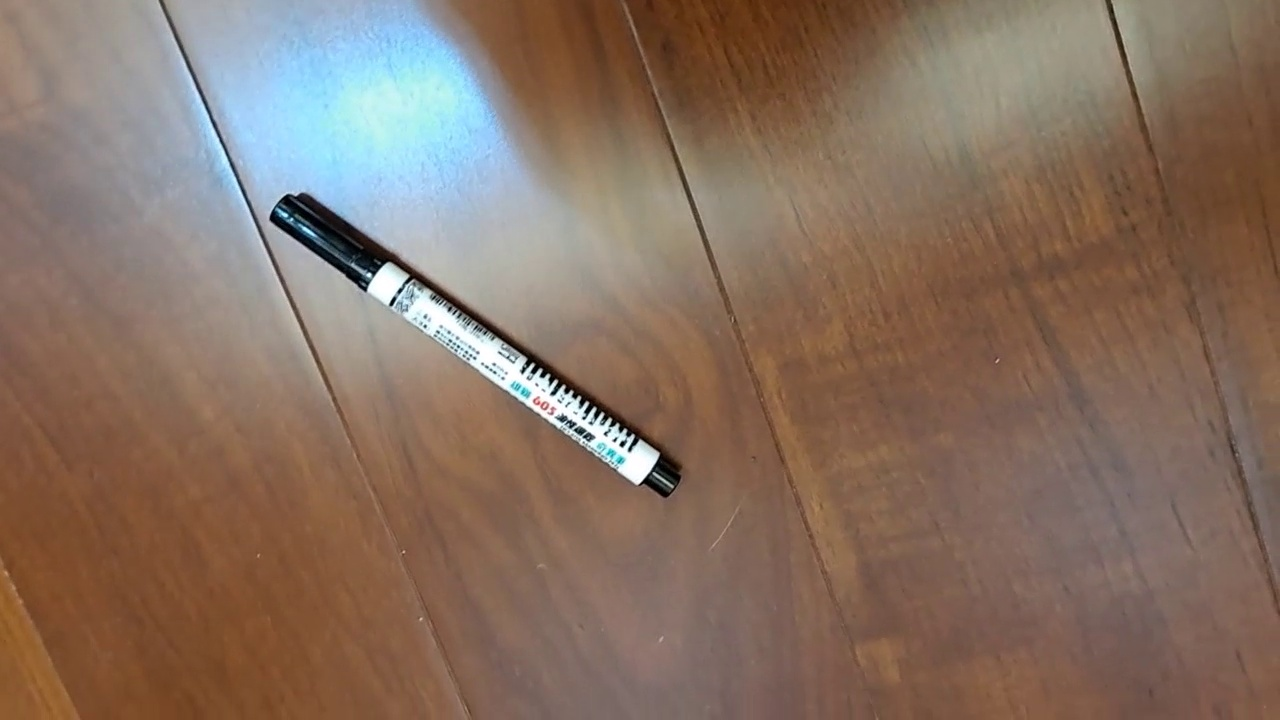pen: (269, 192, 682, 498)
